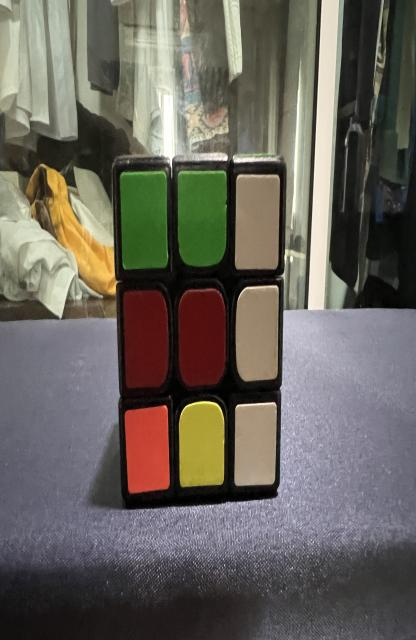Green: (120, 170, 168, 270), (178, 170, 227, 267)
Orange: (124, 405, 170, 493)
Red: (178, 288, 226, 387), (124, 290, 169, 388)
White: (235, 173, 280, 270), (236, 285, 279, 382), (234, 402, 277, 487)
Yellow: (179, 402, 224, 488)
